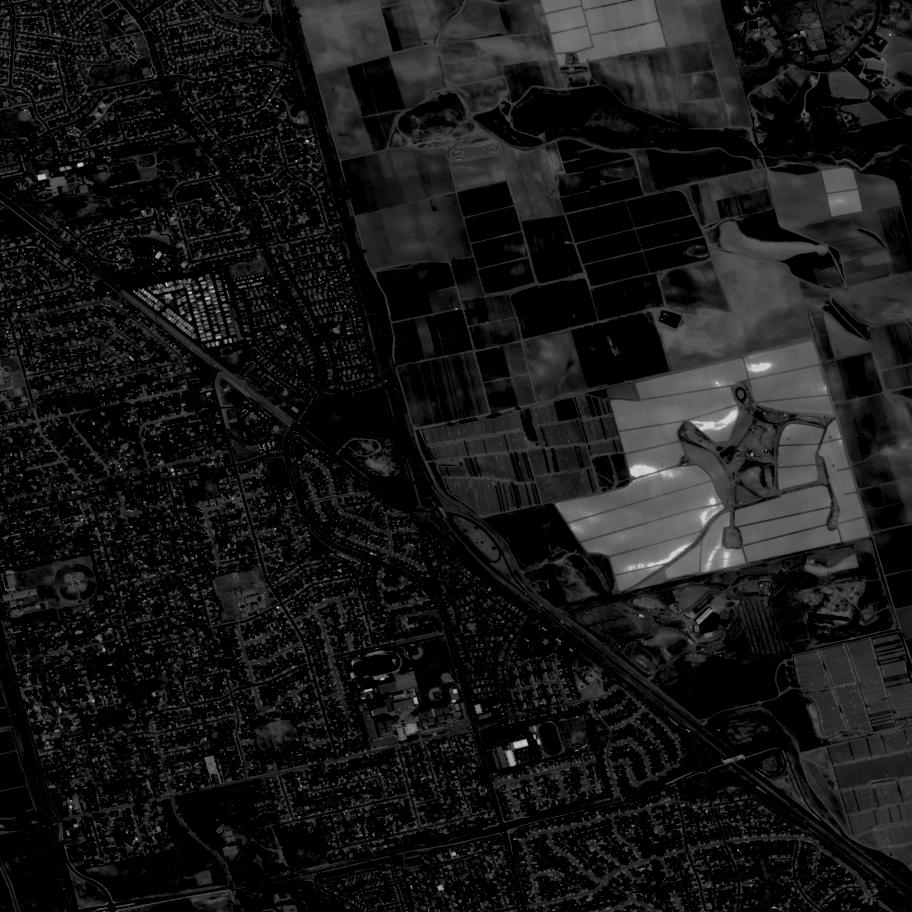storage-tank: (749, 22, 758, 30), (764, 450, 768, 454), (748, 450, 752, 453), (756, 455, 759, 457), (751, 453, 753, 456), (738, 451, 739, 452)
